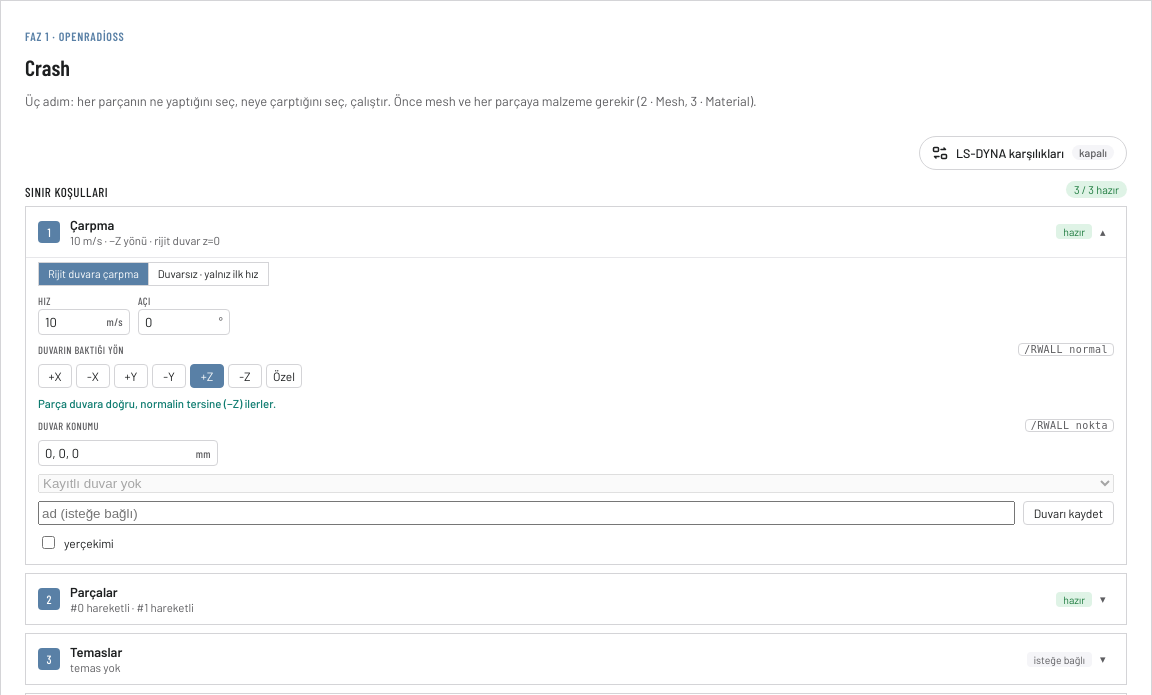
CrashPanel › tasarım: eksik bilgi düğmeyi kapatır ve nedenini yazar; duvarsızda temas eksik sayılır
The width and height of the screenshot is (1152, 695).
Type "1, 2" into the field named "Duvar konumu".
click(114, 453); type("1, 2")  # box [39, 441, 190, 465]
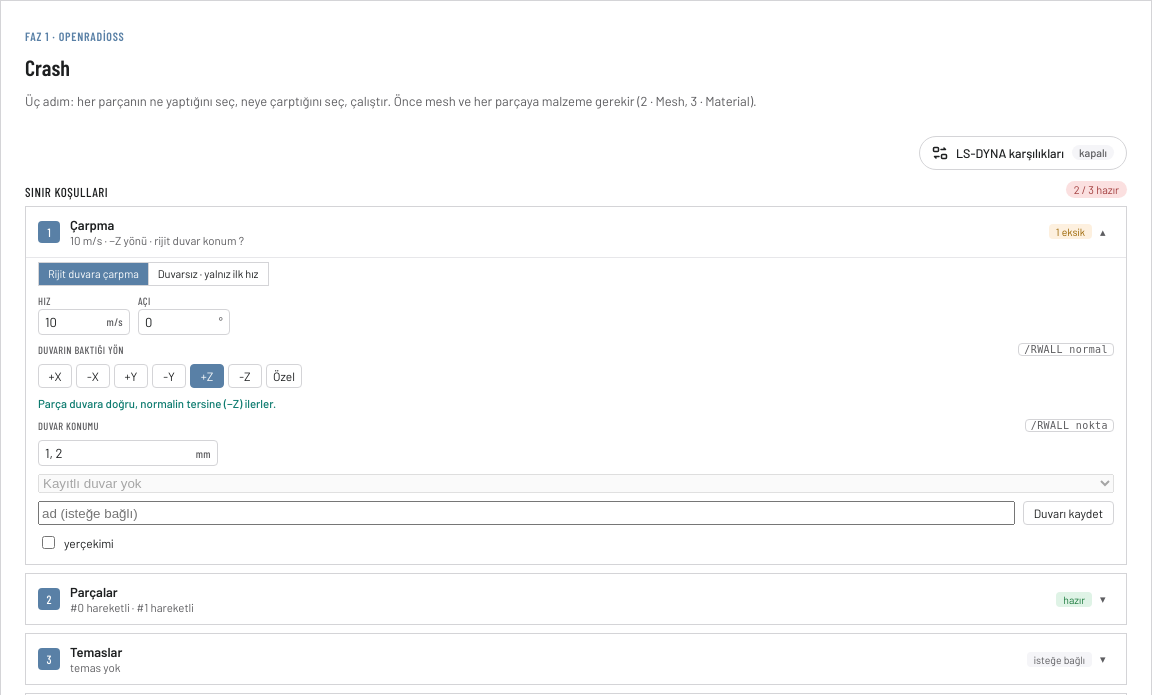
expect the text with test id "crash-ready-count" reads "2 / 3 hazır": met, box [1066, 181, 1127, 198]
Click the radio button labelled "Duvarsız · yalnız ilk hız".
click(208, 274)  # box [148, 263, 268, 285]
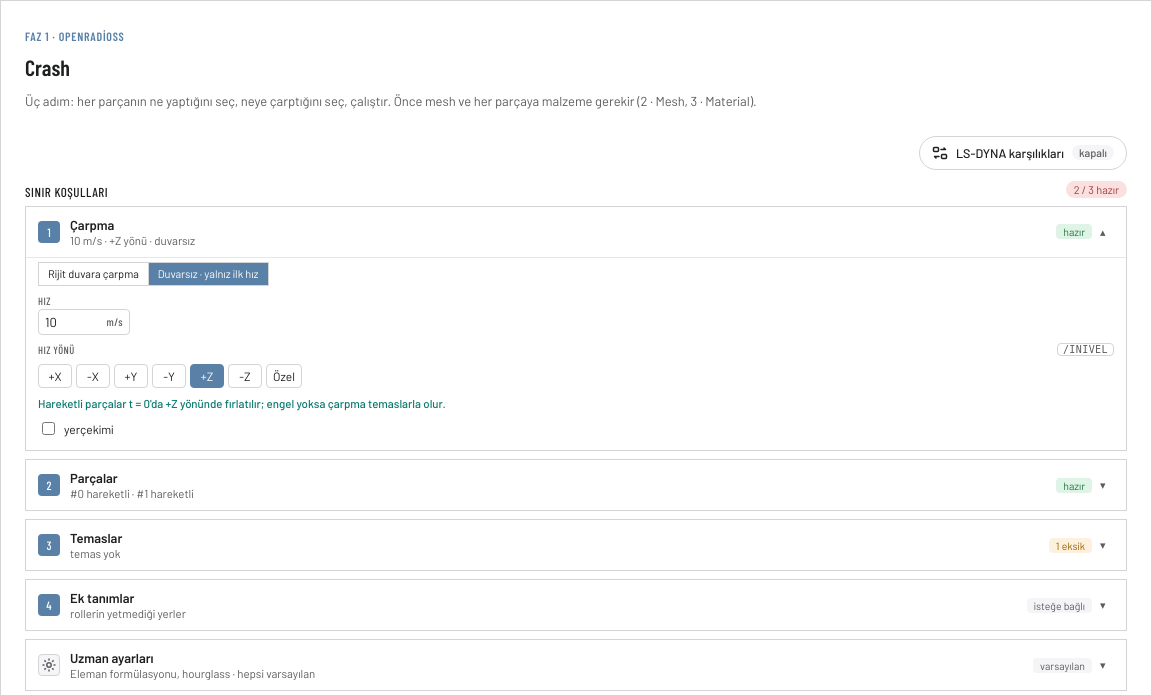
expect the button "3 Temaslar temas yok 1 eksik ▾" is shown: met, box [26, 520, 1126, 570]
